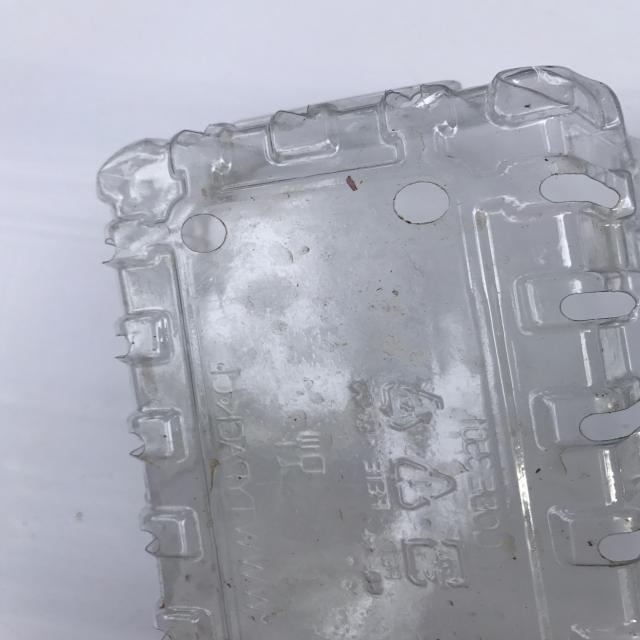plastic: (96, 64, 640, 640)
